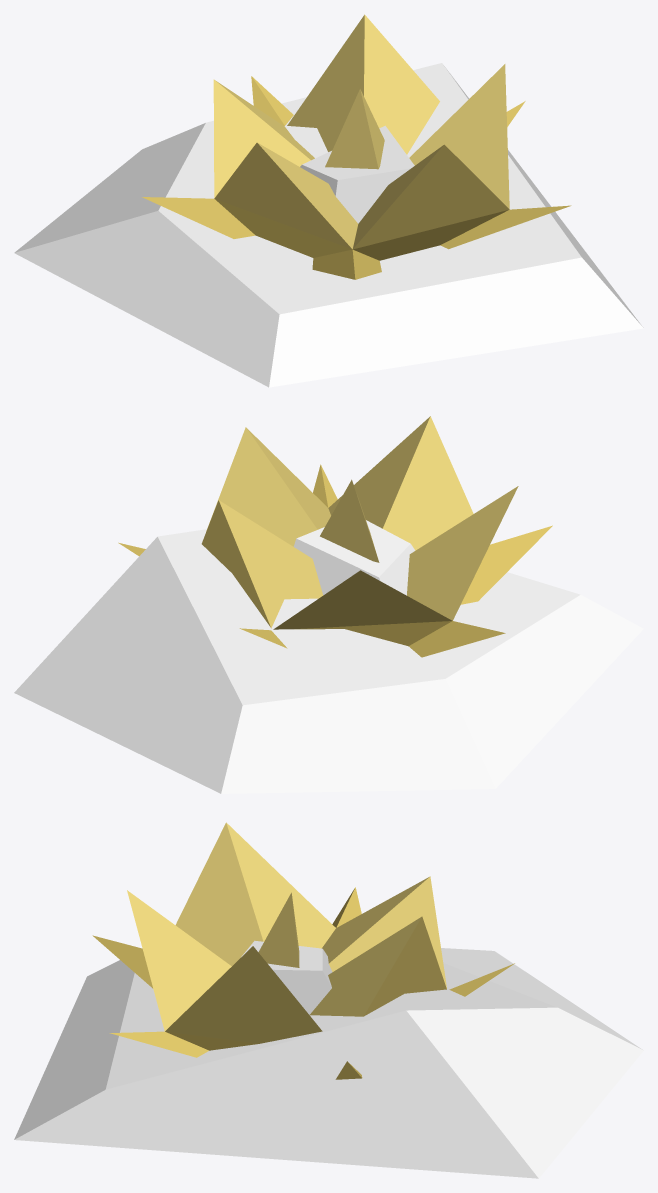
File: BushWinter5_Alt3.fbx
3 renders of one model, top to bottom at view 1: azimuth 30°, elevation 25°; view 2: azimuth 150°, elevation 25°; view 3: azimuth 270°, elevation 25°, orthographic.
Visible parts, largest first — view 1: BushWinter5_Alt3; view 2: BushWinter5_Alt3; view 3: BushWinter5_Alt3.
Boxes of the visible parts, left/top/right/bottom form: BushWinter5_Alt3: left=14, top=14, right=643, bottom=387; BushWinter5_Alt3: left=14, top=416, right=643, bottom=793; BushWinter5_Alt3: left=14, top=822, right=643, bottom=1178.
Bounding box in the file's own units: 0.9251 × 0.3591 × 1.08.
